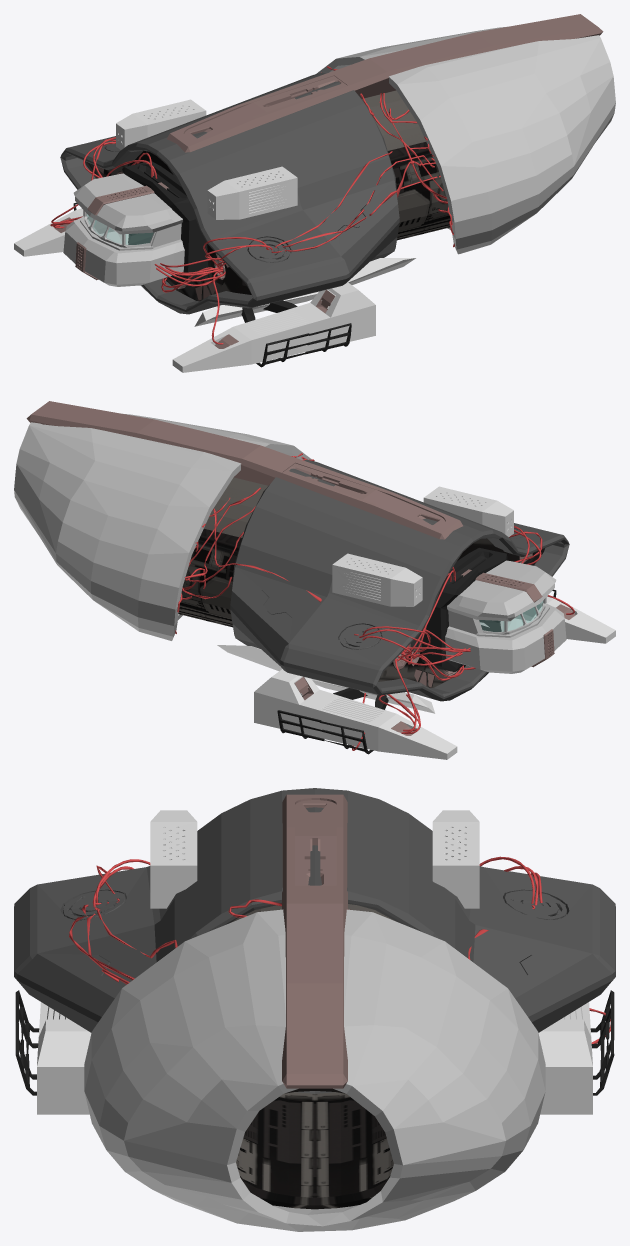
The model's file is ship.fbx.
The picture shows the model from 3 angles, top to bottom: view 1: azimuth 30°, elevation 25°; view 2: azimuth 150°, elevation 25°; view 3: azimuth 270°, elevation 25°; orthographic projection. The views are drawn at different scales.
Visible parts, largest first — view 1: Cylinder, Cylinder.002, Plane.001, Cube.003, Cube.002, Cylinder.003, Cube, Cube.001, Cube.006, Cylinder.001, Plane.002, Cable.002 (+3 smaller); view 2: Cylinder, Cylinder.002, Plane.001, Cube.003, Cube.002, Cylinder.003, Cube, Cube.001, Cube.006, Cylinder.001, Plane.002, Cube.005 (+4 smaller); view 3: Cylinder.002, Cylinder, Plane.001, Cylinder.003, Cube.003, Cube.002, Cube.005, Cable.002.
Boxes of the visible parts, <box> form: Cylinder: <box>60,72,399,314</box>; Cylinder.002: <box>316,26,615,254</box>; Plane.001: <box>167,14,603,152</box>; Cube.003: <box>14,208,375,372</box>; Cube.002: <box>116,99,297,219</box>; Cylinder.003: <box>362,90,450,240</box>; Cube: <box>63,214,184,286</box>; Cube.001: <box>73,173,182,234</box>; Cube.006: <box>122,161,207,284</box>; Cylinder.001: <box>85,147,251,301</box>; Plane.002: <box>194,258,415,326</box>; Cable.002: <box>219,147,437,260</box>; Cylinder: <box>230,459,569,701</box>; Cylinder.002: <box>14,413,311,640</box>; Plane.001: <box>26,401,462,539</box>; Cube.003: <box>254,596,615,759</box>; Cube.002: <box>332,486,513,606</box>; Cylinder.003: <box>178,477,267,627</box>; Cube: <box>445,601,566,673</box>; Cube.001: <box>447,560,556,621</box>; Cube.006: <box>421,548,507,671</box>; Cylinder.001: <box>378,538,544,688</box>; Plane.002: <box>217,645,435,713</box>; Cube.005: <box>277,589,556,754</box>; Cylinder.002: <box>84,909,545,1231</box>; Cylinder: <box>14,788,615,1093</box>; Plane.001: <box>282,794,347,1088</box>; Cylinder.003: <box>231,904,396,1209</box>; Cube.003: <box>37,1002,592,1114</box>; Cube.002: <box>150,810,479,908</box>; Cube.005: <box>15,990,614,1095</box>; Cable.002: <box>69,865,535,984</box>.
Bounding box in the file's own units: 6918 × 2405 × 4544.
